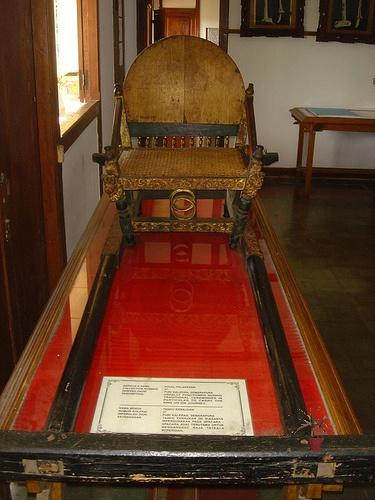tampered: (295, 408, 337, 451)
